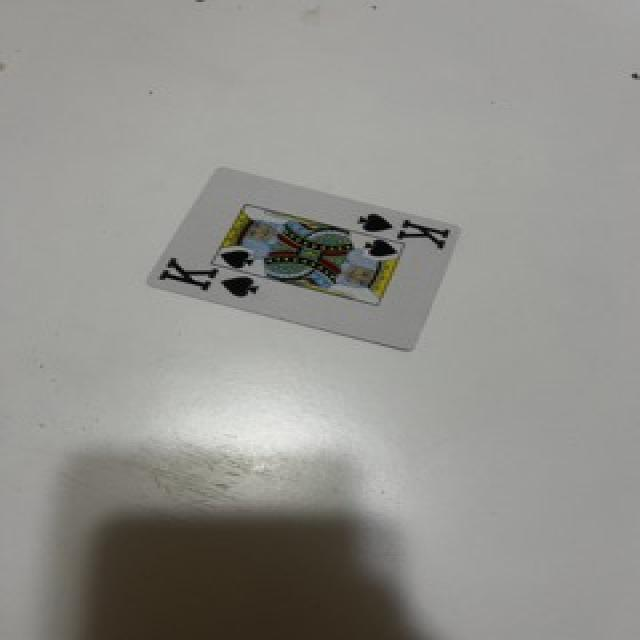King of spades: (148, 168, 460, 350)
